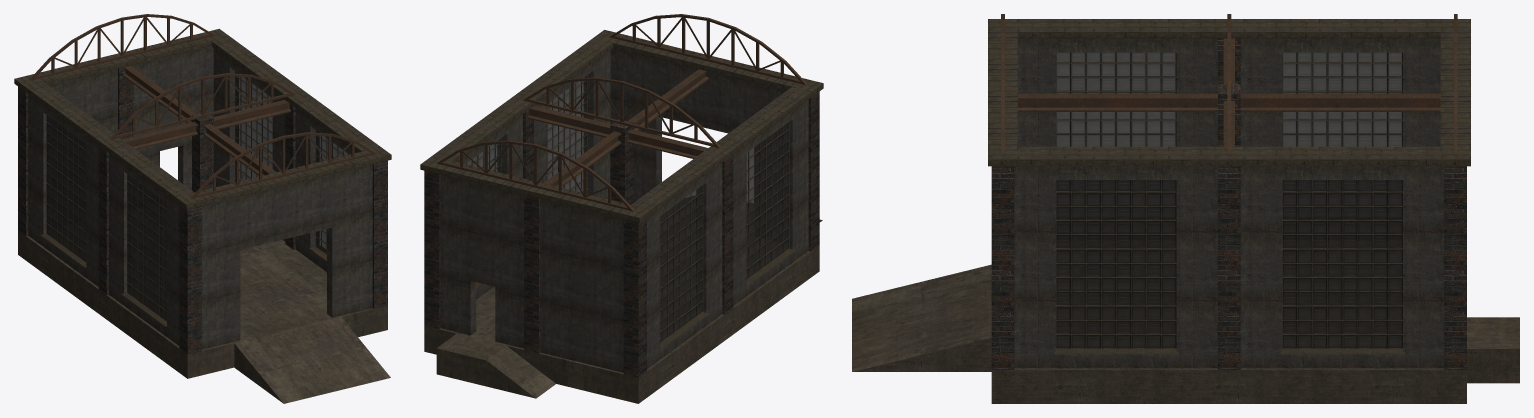
File: warehouse_mx_3.glb
3 views of the same model, side by side, from view 1: azimuth 30°, elevation 25°; view 2: azimuth 150°, elevation 25°; view 3: azimuth 270°, elevation 25° (orthographic). The views are drawn at different scales.
Parts seen in each view (by area): view 1: warehouse_mx_3; view 2: warehouse_mx_3; view 3: warehouse_mx_3.
Boxes of the visible parts, x1,y1,x2,y2 form: warehouse_mx_3: (14, 14, 391, 403); warehouse_mx_3: (420, 14, 823, 403); warehouse_mx_3: (852, 14, 1519, 403).
Size of the model in its own units: 8.8 by 8.82 by 17.7.
Materials: 9 (9 with a texture image).
